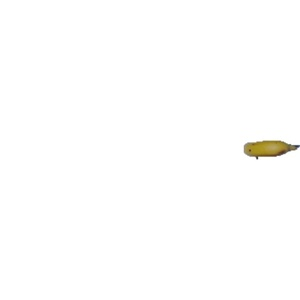banana: (243, 141, 297, 161)
